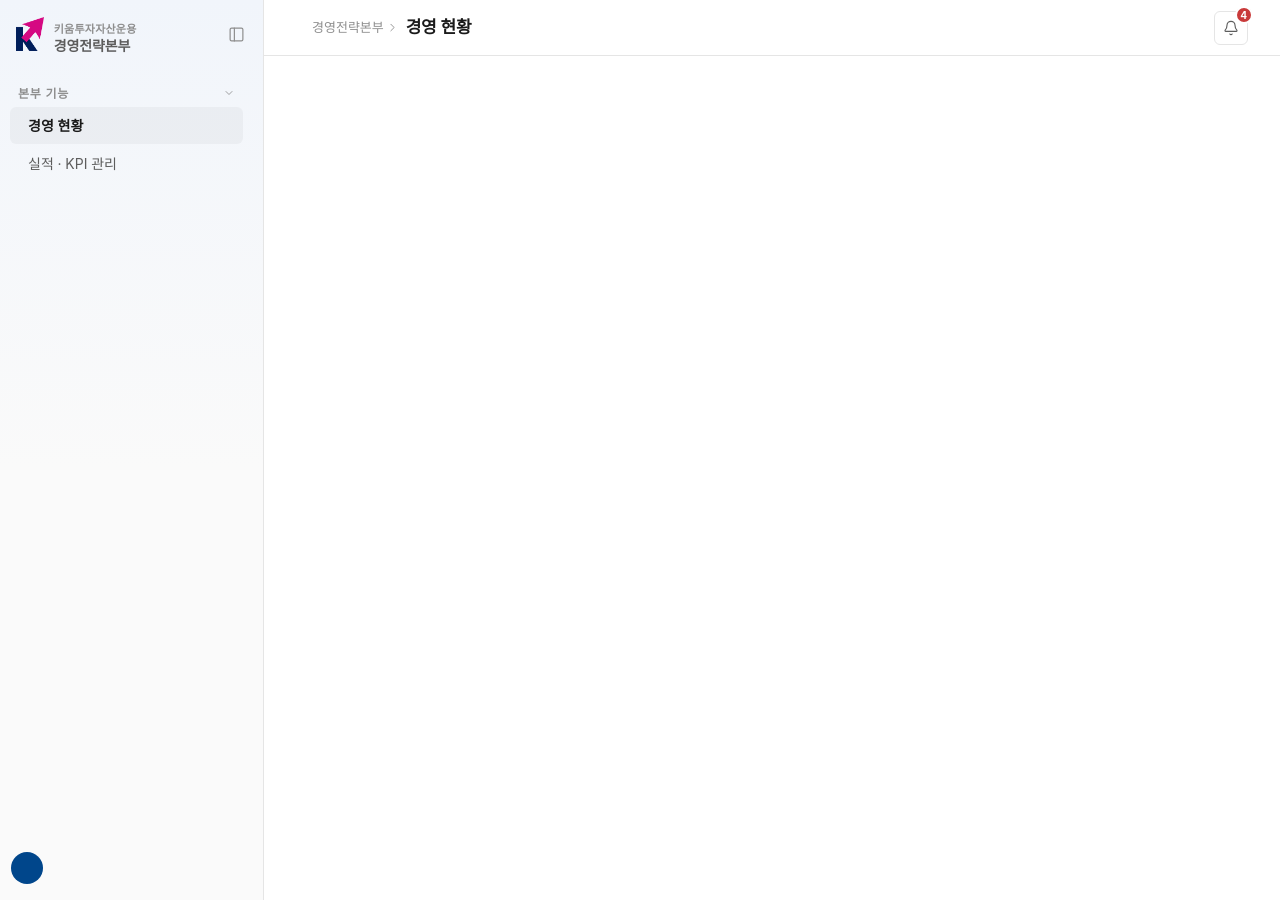
Scenario: 모든 페이지에 종과 알림 서랍이 있고, 알림 서랍 안에는 대시보드의 알림 내용이 들어간다
Expected: the button named "알림" is shown, 1214,10 -> 1248,44
Click the link "실적 · KPI 관리": (72, 164) 28,155 -> 117,172
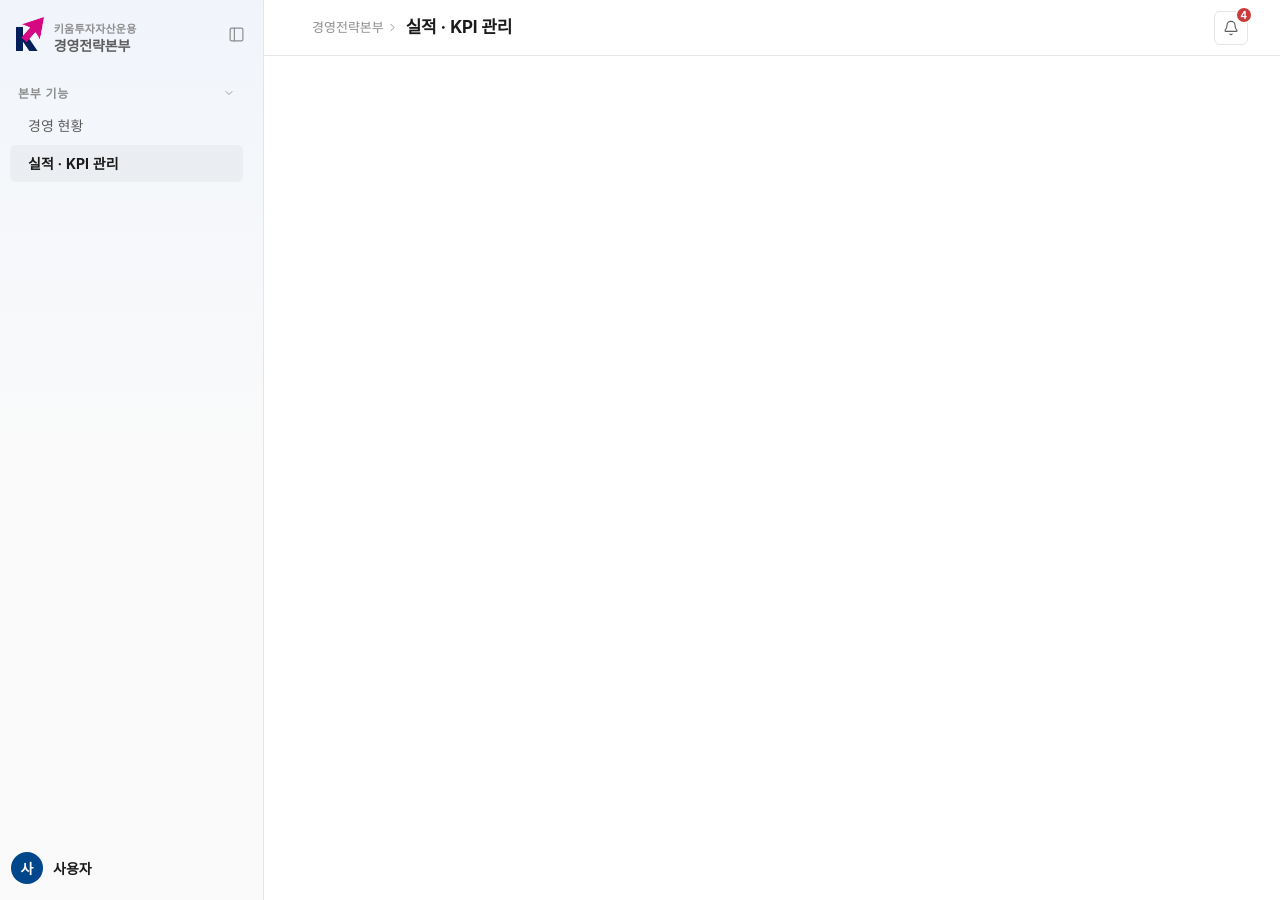
Expected: the button named "알림" is shown, 1214,10 -> 1248,44
Expected: the heading "실적 · KPI 관리" is shown, 406,17 -> 512,38
